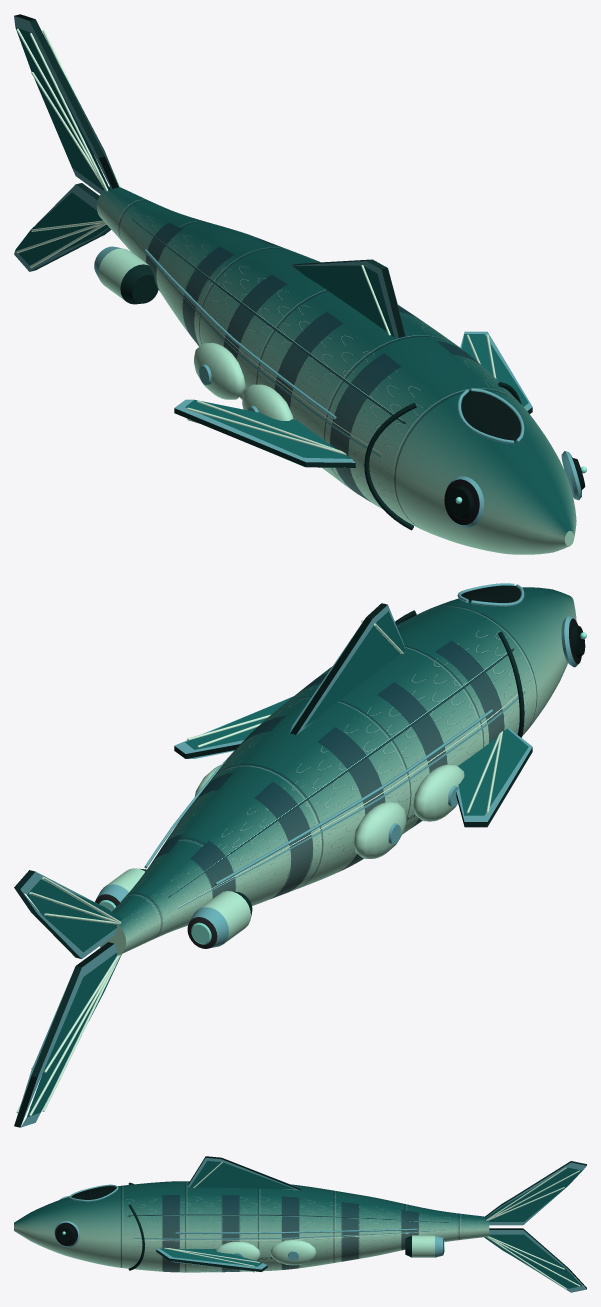
The picture shows the model from 3 angles, top to bottom: view 1: azimuth 30°, elevation 25°; view 2: azimuth 150°, elevation 25°; view 3: azimuth 270°, elevation 25°; orthographic projection. The views are drawn at different scales.
Parts seen in each view (by area): view 1: pilotfish_hull; view 2: pilotfish_hull; view 3: pilotfish_hull.
Boxes of the visible parts, left/top/right/bottom form: pilotfish_hull: left=14, top=14, right=586, bottom=554; pilotfish_hull: left=14, top=583, right=586, bottom=1127; pilotfish_hull: left=14, top=1156, right=586, bottom=1292.
Size of the model in its own units: 5.24 by 4.16 by 16.
Materials: 1 (1 with a texture image).
